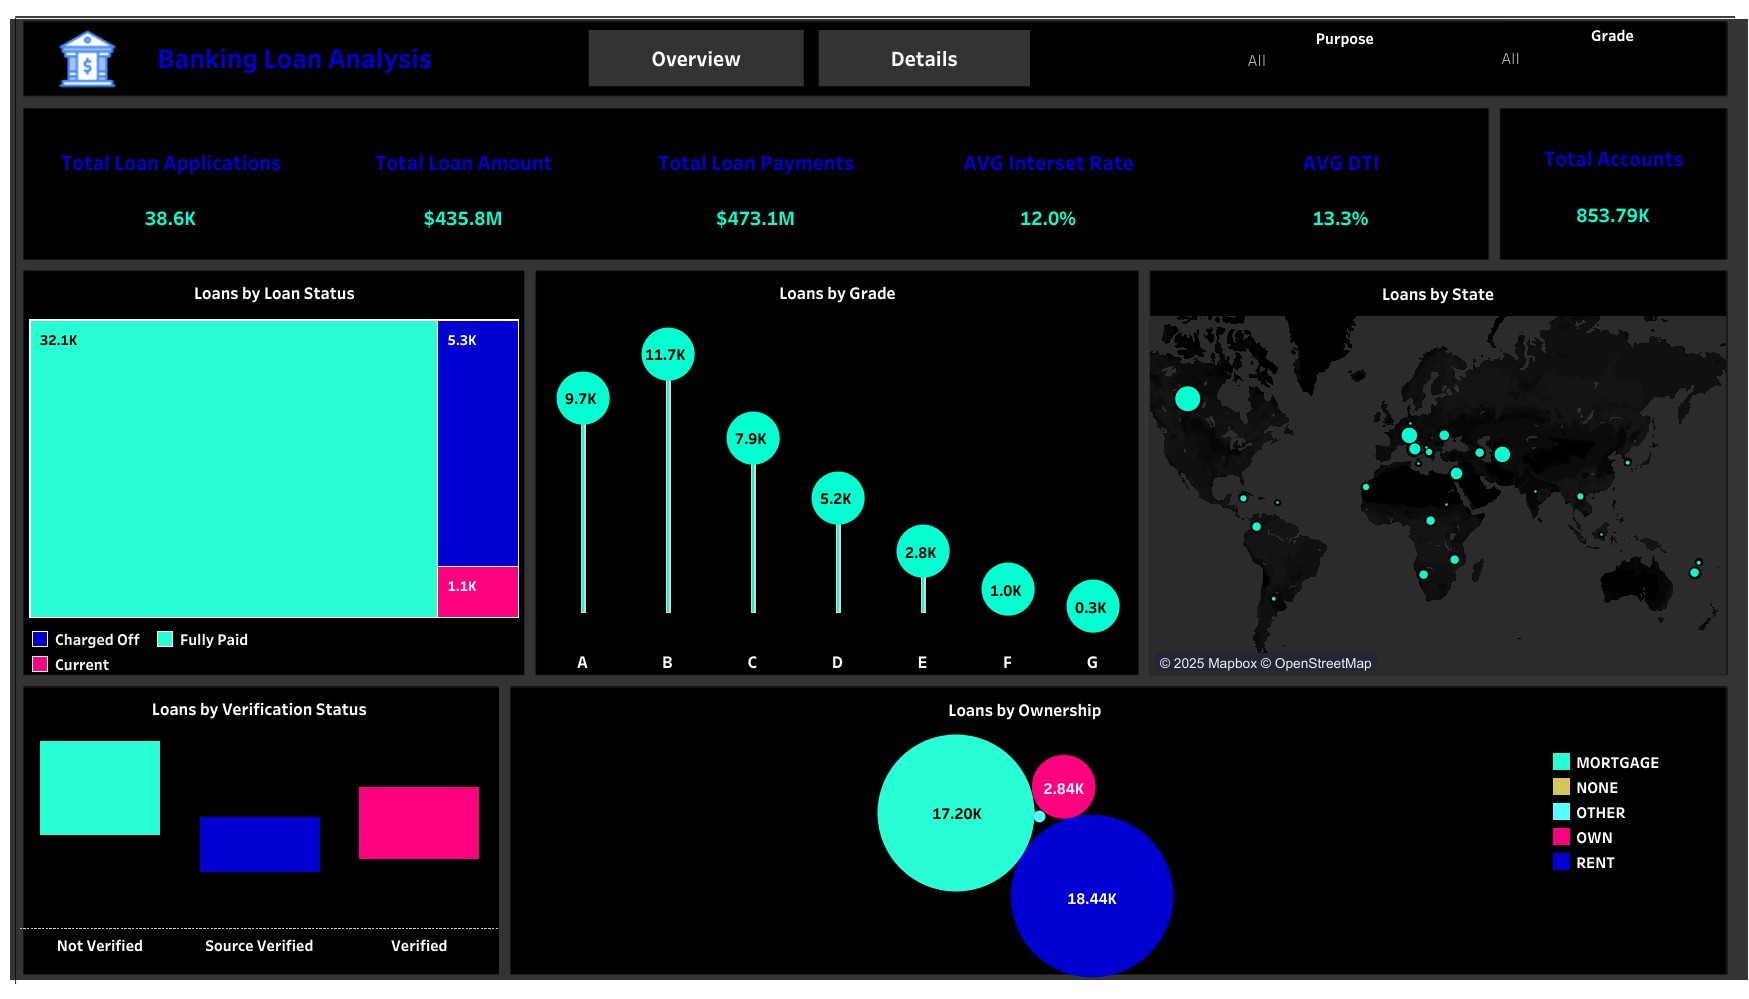

The dashboard page shown, as its layout file describes it:
{"tool":"tableau","page":{"name":"Details","canvas":[1400,800],"ordinal":0},"visuals":[{"type":"image","param":"Image/HR background.png","box":[8,8,1384,784]},{"type":"text","box":[19,16,446,59]},{"type":"filter","title":"Loans by Grade","param":"[federated.0tqnj1k01054us15jw4jw1k3xr4j].[none:grade:nk]","box":[1199,18,182,56]},{"type":"filter","title":"Loans by Grade","param":"[federated.0tqnj1k01054us15jw4jw1k3xr4j].[none:purpose:nk]","box":[996,20,160,54]},{"type":"image","param":"Image/8473577.png","box":[46,23,55,48]},{"type":"dashboard-object","box":[471,24,172,45]},{"type":"dashboard-object","box":[655,24,169,45]},{"type":"worksheet","title":"KPIs","mark":"Text","box":[20,86,1170,120]},{"type":"worksheet","title":"Total Acc","mark":"Text","box":[1200,109,182,86]},{"type":"worksheet","title":"Loans by Loan Status","mark":"Automatic","box":[20,218,399,320]},{"type":"worksheet","title":"Loans by Grade","mark":"Bar","rows":["Calculation_1921066722022273024","Calculation_1921066722022273024"],"cols":["grade"],"box":[432,218,476,320]},{"type":"worksheet","title":"Loans by State","mark":"Automatic","box":[920,219,461,321]},{"type":"legend","title":"Loans by Loan Status","param":"[federated.0tqnj1k01054us15jw4jw1k3xr4j].[none:loan_status:nk]","box":[22,501,403,41]},{"type":"worksheet","title":"Loans by Verification Status","mark":"GanttBar","rows":["Calculation_1921066722022273024"],"cols":["verification_status"],"box":[16,551,383,232]},{"type":"worksheet","title":"Loans by Ownership","mark":"Circle","box":[409,552,822,230]},{"type":"legend","title":"Loans by Ownership","param":"[federated.0tqnj1k01054us15jw4jw1k3xr4j].[none:home_ownership:nk]","box":[1239,599,122,115]}]}

Visuals, with their boxes in screenshot pixels (x1, y1, x2, y2), scaled from the page's 1400x800 canvas onto the 1749x999 screenshot:
image: [10,10,1739,989]
text: [24,20,581,94]
"Loans by Grade" filter: [1498,22,1725,92]
"Loans by Grade" filter: [1244,25,1444,92]
image: [57,29,126,89]
dashboard-object: [588,30,803,86]
dashboard-object: [818,30,1029,86]
"KPIs" worksheet (Text marks): [25,107,1487,257]
"Total Acc" worksheet (Text marks): [1499,136,1727,244]
"Loans by Loan Status" worksheet: [25,272,523,672]
"Loans by Grade" worksheet (Bar marks): [540,272,1134,672]
"Loans by State" worksheet: [1149,273,1725,674]
"Loans by Loan Status" legend: [27,626,531,677]
"Loans by Verification Status" worksheet (GanttBar marks): [20,688,498,978]
"Loans by Ownership" worksheet (Circle marks): [511,689,1538,977]
"Loans by Ownership" legend: [1548,748,1700,892]
